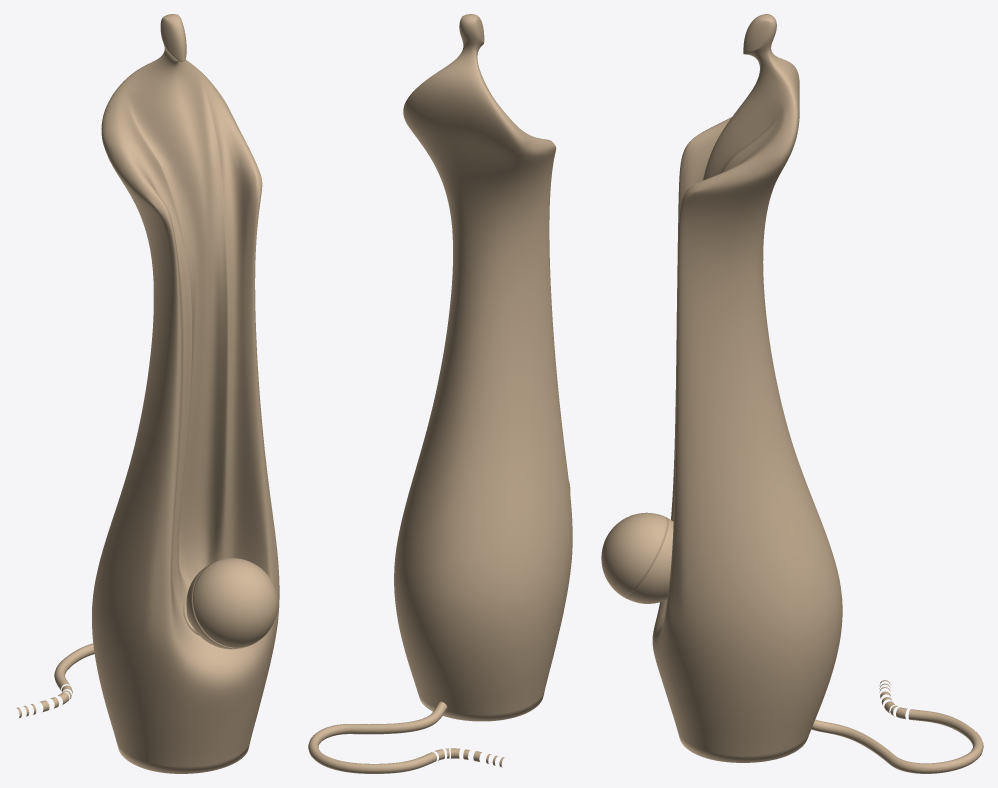
The model's file is heavy-light.glb.
3 renders of one model, left to right at view 1: azimuth 30°, elevation 25°; view 2: azimuth 150°, elevation 25°; view 3: azimuth 270°, elevation 25°, orthographic. The views are drawn at different scales.
Visible parts, largest first — view 1: wood, crown, cable, glass; view 2: wood, cable; view 3: wood, crown, cable, glass.
Part boxes in pixels (x1=…): wood: x1=92, y1=14, x2=279, y2=773; crown: x1=192, y1=558, x2=277, y2=648; cable: x1=16, y1=643, x2=94, y2=718; glass: x1=186, y1=562, x2=243, y2=649; wood: x1=394, y1=14, x2=572, y2=721; cable: x1=308, y1=701, x2=504, y2=773; wood: x1=652, y1=14, x2=842, y2=762; crown: x1=601, y1=512, x2=668, y2=597; cable: x1=811, y1=680, x2=983, y2=773; glass: x1=625, y1=518, x2=673, y2=603.
Bounding box in the file's own units: 0.1019 × 0.3961 × 0.1905.
